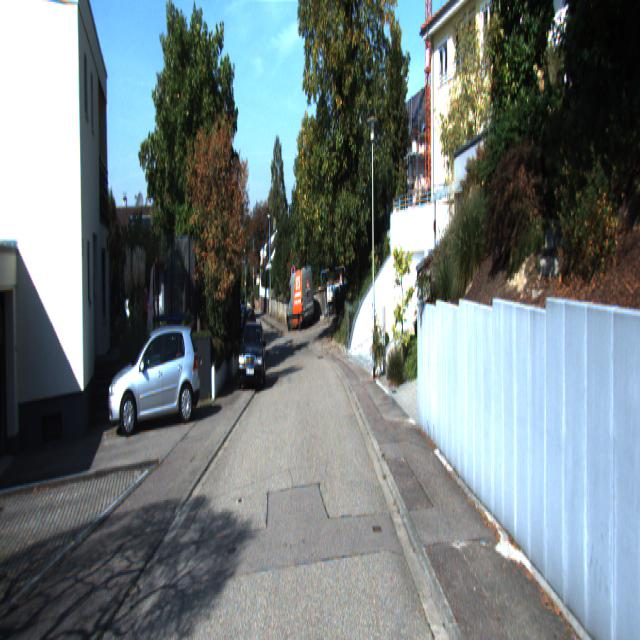Car: (107, 322, 202, 437), (237, 322, 267, 393), (285, 266, 315, 331)
